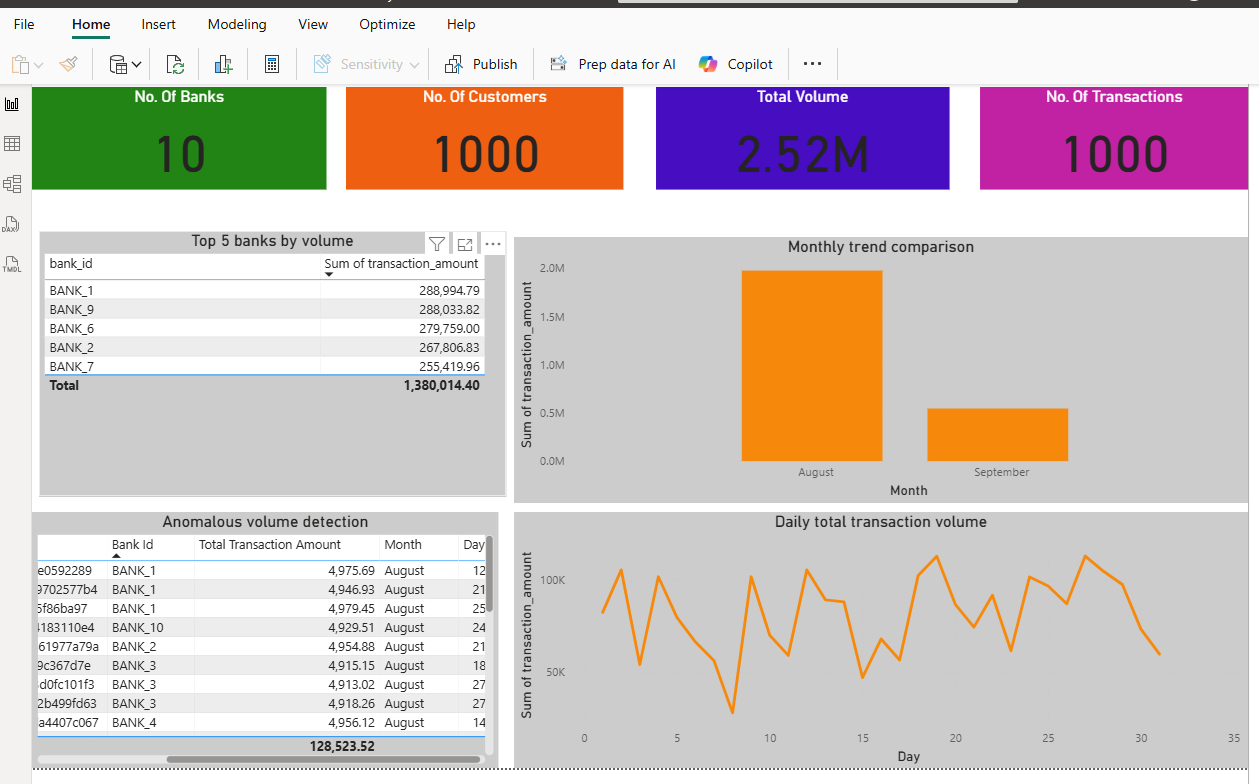

Layout of this report page (visuals, bound fields, positions):
{"tool":"powerbi","page":{"name":"Transactions Performance Dashboard","canvas":[1280,720],"ordinal":0},"visuals":[{"type":"lineChart","title":"Daily total transaction volume","fields":{"Y":["Sum(transactions.transaction_amount)"],"Category":["transactions.transaction_date.Variation.Date Hierarchy.Day"]},"box":[507.7,450.1,772.6,270.3],"z":0},{"type":"tableEx","title":"Top 5 banks by volume","fields":{"Values":["transactions.bank_id","Sum(transactions.transaction_amount)"]},"box":[7.6,154.3,491.5,279.9],"z":1},{"type":"columnChart","title":"Monthly trend comparison","fields":{"Category":["transactions.transaction_date.Variation.Date Hierarchy.Month"],"Y":["Sum(transactions.transaction_amount)"]},"box":[507.7,160.5,772.6,279.9],"z":2},{"type":"card","title":"No. Of Customers","fields":{"Values":["Count(transactions.customer_id)"]},"box":[330.7,2.7,292.3,108.4],"z":3},{"type":"card","title":"No. Of Banks","fields":{"Values":["Count(transactions.bank_id)"]},"box":[0,2.7,310.1,108.4],"z":4},{"type":"card","title":"Total Volume","fields":{"Values":["Sum(transactions.transaction_amount)"]},"box":[657.3,2.7,308.7,108.4],"z":5},{"type":"card","title":"No. Of Transactions","fields":{"Values":["Count(transactions.transaction_id)"]},"box":[997.6,2.7,282.7,108.4],"z":6},{"type":"tableEx","title":"Anomalous volume detection","fields":{"Values":["transactions.transaction_id","transactions.bank_id","Sum(transactions.transaction_amount)","transactions.transaction_date.Variation.Date Hierarchy.Month","transactions.transaction_date.Variation.Date Hierarchy.Day"]},"box":[0,450.1,491.3,270.3],"z":7}]}

Visuals, with their boxes in screenshot pixels (x1, y1, x2, y2):
"Daily total transaction volume" lineChart: l=524, t=503, r=1247, b=756
"Top 5 banks by volume" tableEx: l=56, t=226, r=516, b=488
"Monthly trend comparison" columnChart: l=524, t=232, r=1247, b=494
"No. Of Customers" card: l=359, t=84, r=632, b=186
"No. Of Banks" card: l=49, t=84, r=339, b=186
"Total Volume" card: l=664, t=84, r=953, b=186
"No. Of Transactions" card: l=983, t=84, r=1247, b=186
"Anomalous volume detection" tableEx: l=49, t=503, r=509, b=756
